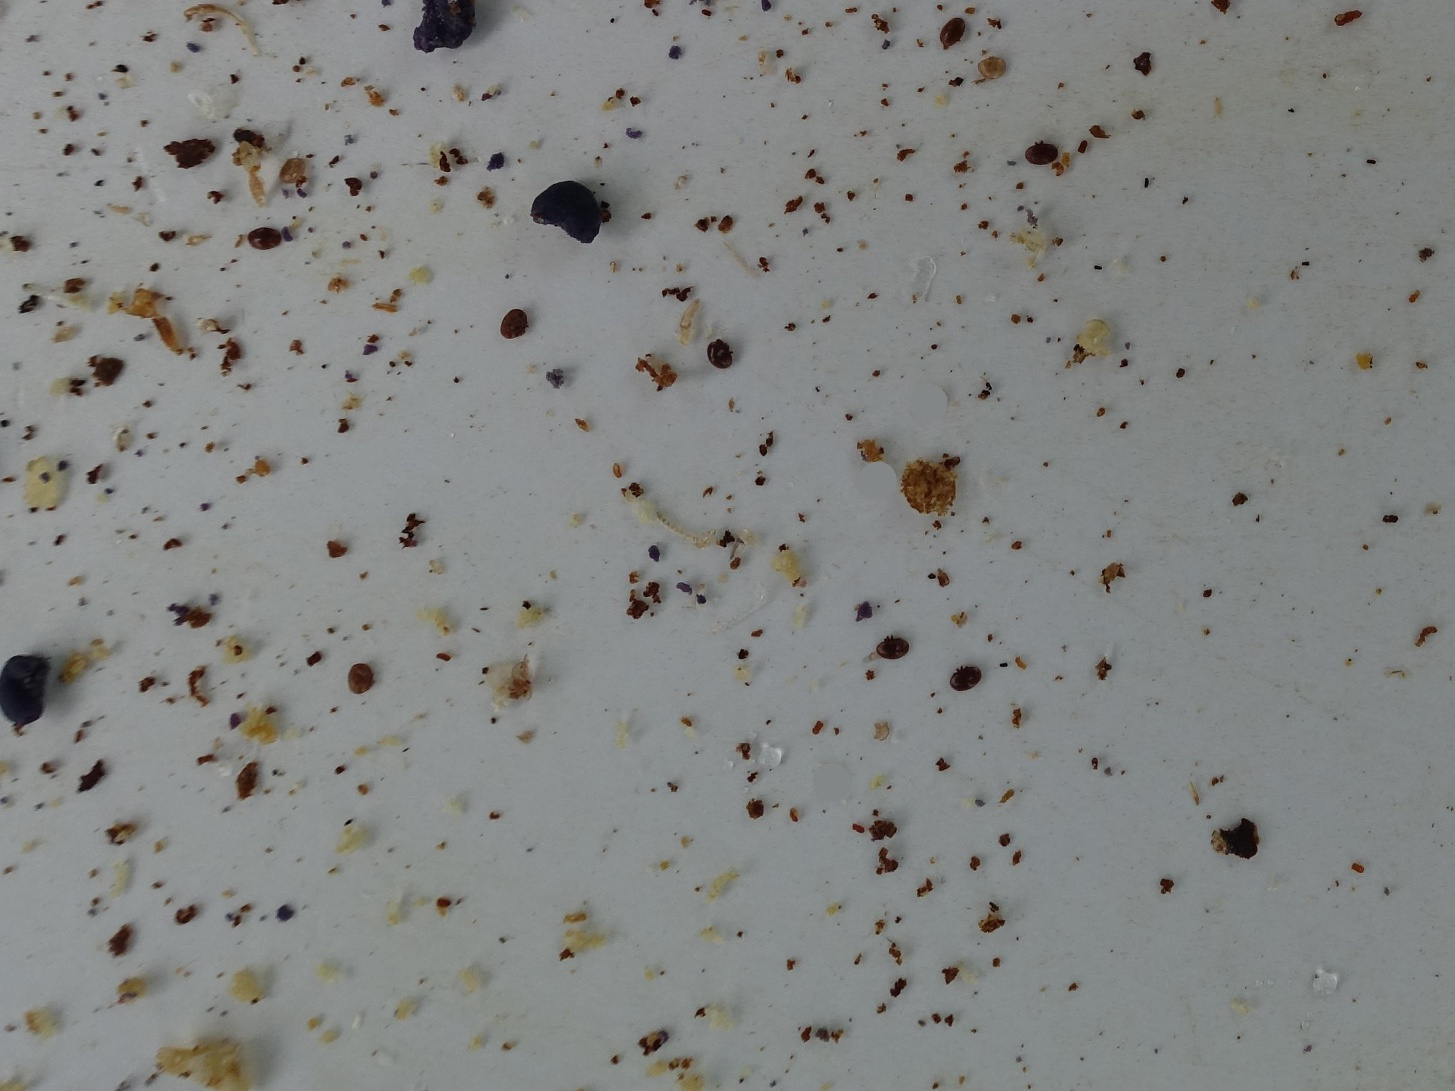Varroa: (253, 225, 284, 256), (502, 311, 528, 340), (348, 665, 376, 692), (709, 342, 732, 369), (944, 19, 967, 47), (955, 664, 981, 688), (883, 635, 906, 661), (1036, 154, 1047, 163), (1028, 146, 1044, 150), (947, 17, 957, 22)
